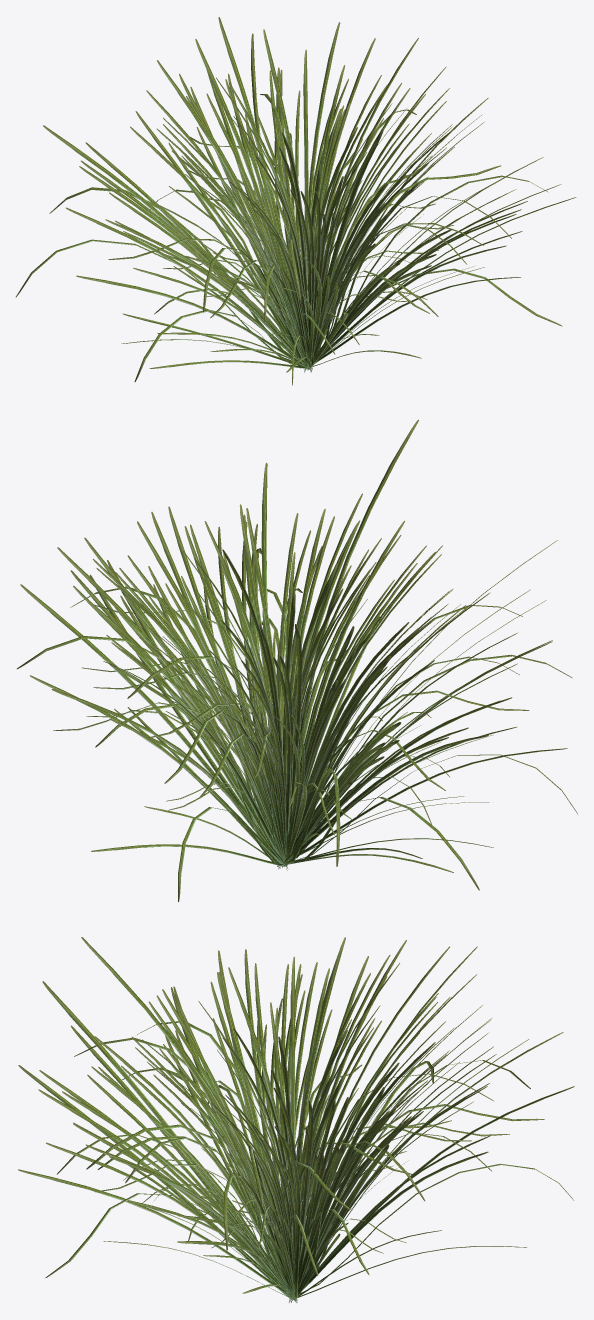
File: karekkusu2_nocolor.fbx
3 views of the same model, one above another, from view 1: azimuth 30°, elevation 25°; view 2: azimuth 150°, elevation 25°; view 3: azimuth 270°, elevation 25° (orthographic). The views are drawn at different scales.
Visible parts, largest first — view 1: 058.277; view 2: 058.277; view 3: 058.277.
Boxes of the visible parts, x1,y1,x2,y2 form: 058.277: [15, 17, 576, 385]; 058.277: [17, 419, 577, 901]; 058.277: [18, 937, 574, 1302].
Size of the model in its own units: 0.7741 by 0.5175 by 0.7401.
1 material, 1 textured.
